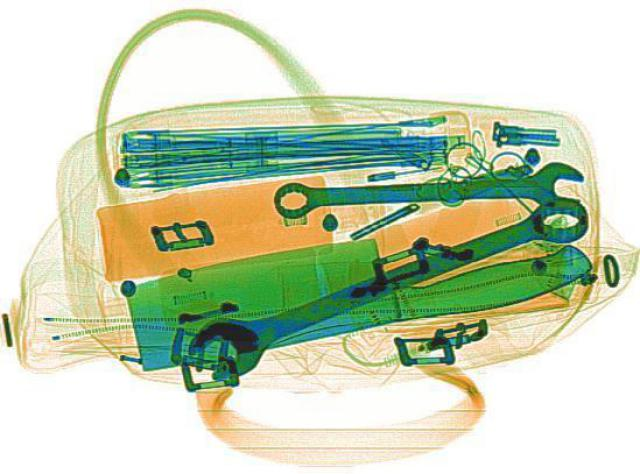Knife: (107, 197, 598, 368)
Wrench: (172, 182, 604, 382), (270, 158, 584, 221)
